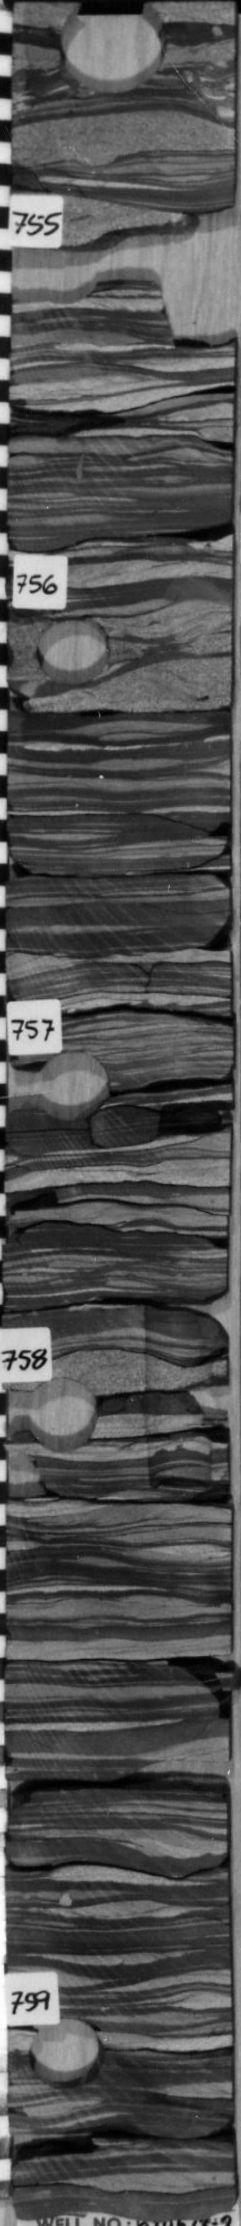hplug: (23, 315, 106, 395), (27, 1461, 101, 1528), (146, 1844, 218, 1882)
scal: (37, 1075, 147, 1175), (45, 1263, 155, 1359)
vplug: (119, 229, 215, 463), (120, 1411, 210, 1628)
